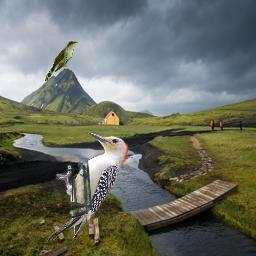Cuckoo: (45, 41, 78, 81)
Woodpecker: (46, 130, 130, 243)
